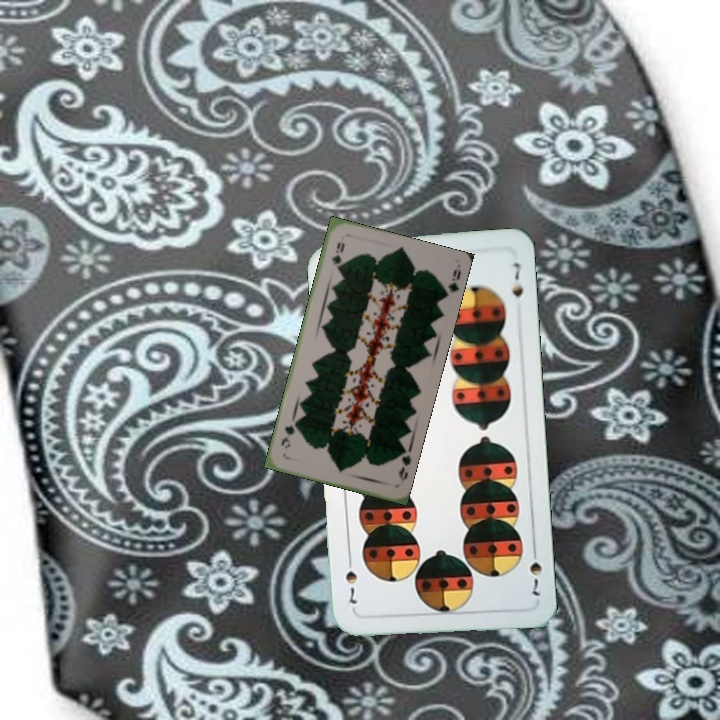G9: (394, 446, 414, 484), (328, 238, 347, 273)
S7: (525, 542, 544, 598)
